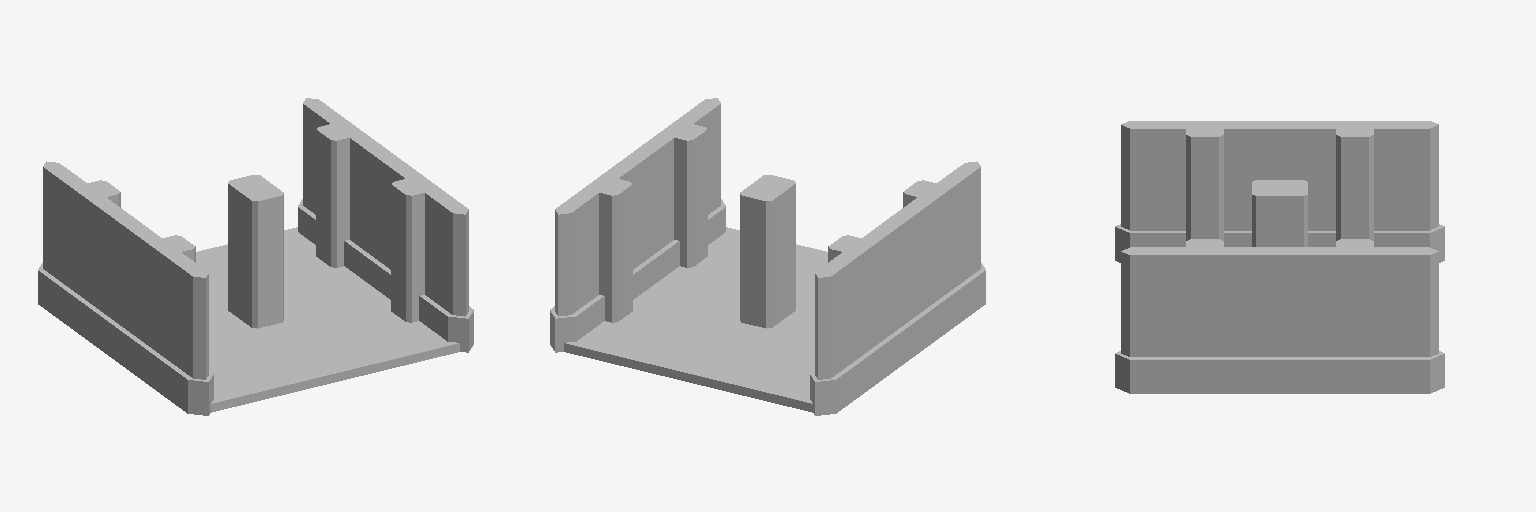
Rendered from hallway_03.obj.
The picture shows the model from 3 angles: view 1: azimuth 30°, elevation 25°; view 2: azimuth 150°, elevation 25°; view 3: azimuth 270°, elevation 25°; orthographic projection.
Parts seen in each view (by area): view 1: floor_01_11, wall_02_13, wall_02_15, wall_02_12, wall_02_14, pillar_01_17; view 2: floor_01_11, wall_02_12, wall_02_14, wall_02_13, wall_02_15, pillar_01_17; view 3: wall_02_14, wall_02_15, wall_02_12, wall_02_13, pillar_01_17.
Part boxes in pixels (x1,y1,x2,y2): floor_01_11: (196,227,459,412); wall_02_13: (113,217,213,415); wall_02_15: (373,153,473,352); wall_02_12: (38,161,133,358); wall_02_14: (298,98,393,286); pillar_01_17: (228,175,283,328); floor_01_11: (564,227,827,412); wall_02_12: (810,217,910,415); wall_02_14: (550,153,650,352); wall_02_13: (890,161,985,358); wall_02_15: (631,98,725,286); pillar_01_17: (740,175,795,328); wall_02_14: (1271,239,1444,393); wall_02_15: (1115,239,1286,393); wall_02_12: (1271,121,1444,262); wall_02_13: (1115,121,1286,262); pillar_01_17: (1252,180,1307,246).
Size of the model in its own units: 2.21 by 1 by 2.21.